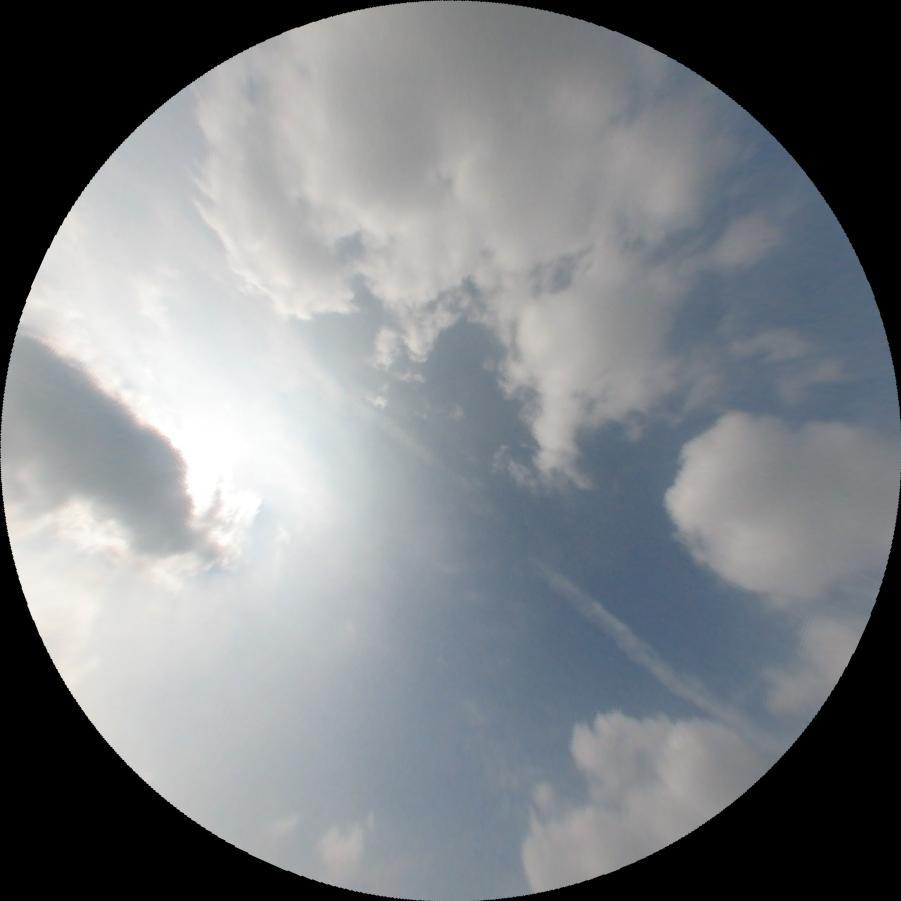contrail veryold: (491, 526, 790, 769), (259, 318, 508, 531)
sun: (155, 408, 230, 520)
